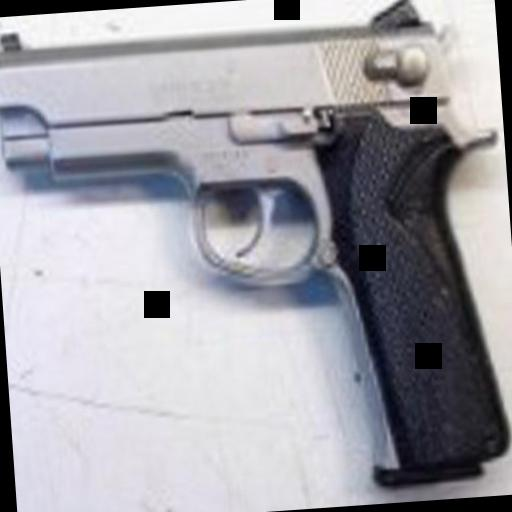Handgun: (0, 0, 510, 506)
